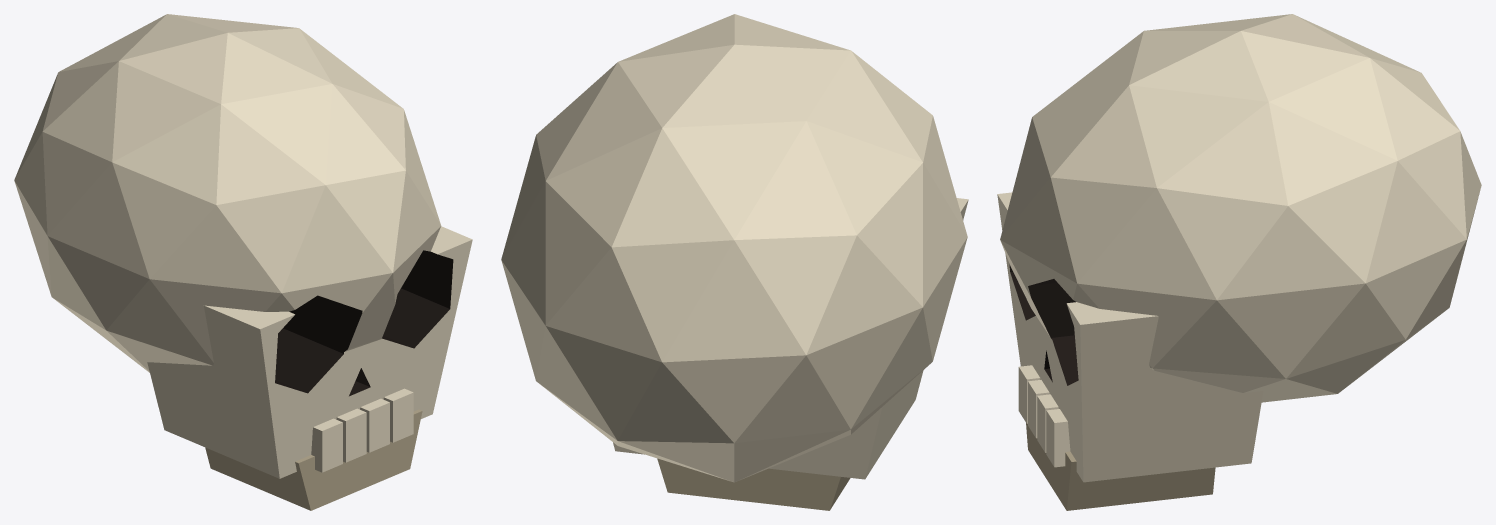
The model's file is sample_skull.fbx.
The picture shows the model from 3 angles, left to right: view 1: azimuth 30°, elevation 25°; view 2: azimuth 150°, elevation 25°; view 3: azimuth 270°, elevation 25°; orthographic projection. The views are drawn at different scales.
Parts seen in each view (by area): view 1: Skull; view 2: Skull; view 3: Skull.
Part boxes in pixels (box(x1,y1,x2,y2)): Skull: box(14, 14, 472, 510); Skull: box(501, 14, 968, 510); Skull: box(997, 14, 1481, 510).
Size of the model in its own units: 1.12 by 1.27 by 1.31.
